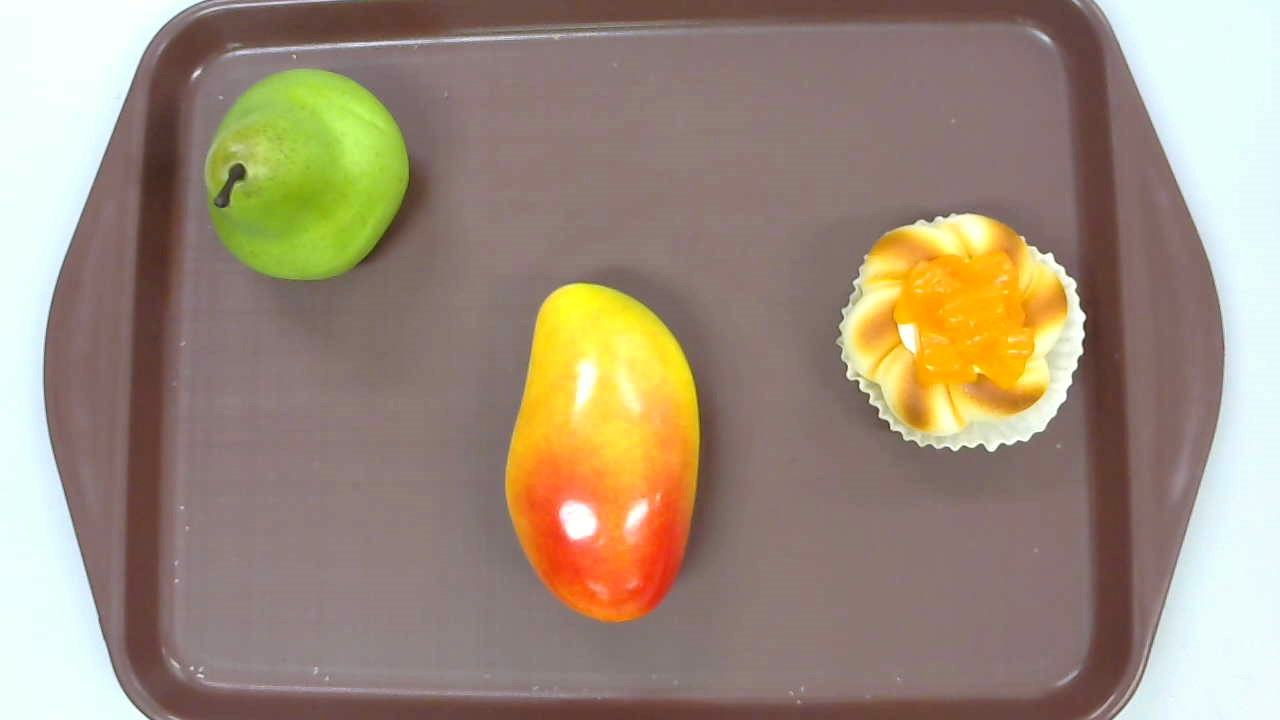green pear: (203, 65, 409, 281)
mango tart: (835, 211, 1085, 453)
red mango: (506, 282, 700, 623)
